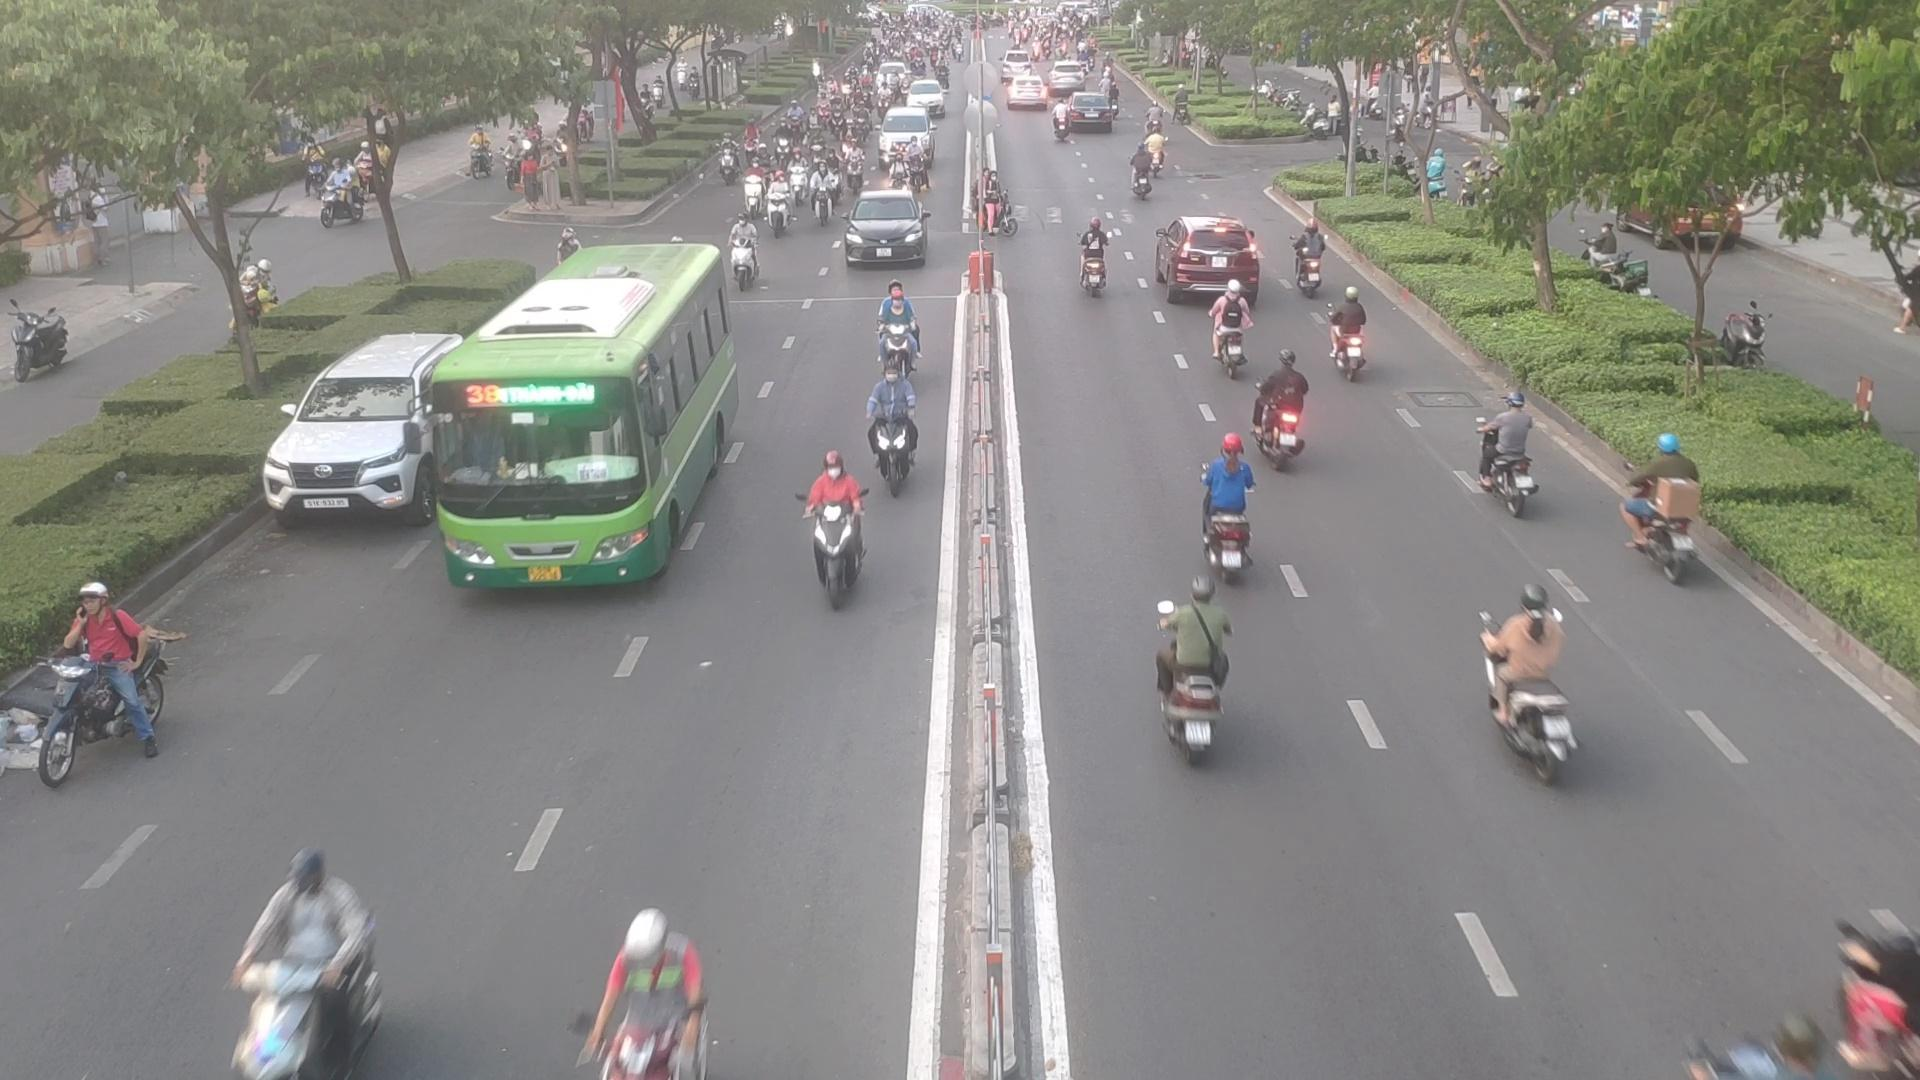bus: (427, 247, 738, 593)
car: (261, 332, 465, 526), (1160, 216, 1255, 301), (837, 193, 928, 270)
motorbike: (214, 856, 392, 1077), (9, 584, 170, 781), (568, 920, 713, 1080), (1473, 603, 1584, 783), (1135, 597, 1230, 760), (1836, 895, 1920, 1076), (1627, 431, 1702, 582), (800, 463, 872, 601), (1473, 394, 1552, 497), (1201, 448, 1266, 572), (858, 371, 924, 484), (1255, 357, 1323, 465), (869, 287, 924, 373), (1327, 287, 1379, 377), (1209, 280, 1250, 382), (1072, 220, 1116, 293), (1288, 227, 1331, 301), (1127, 146, 1163, 200), (756, 186, 791, 237)
